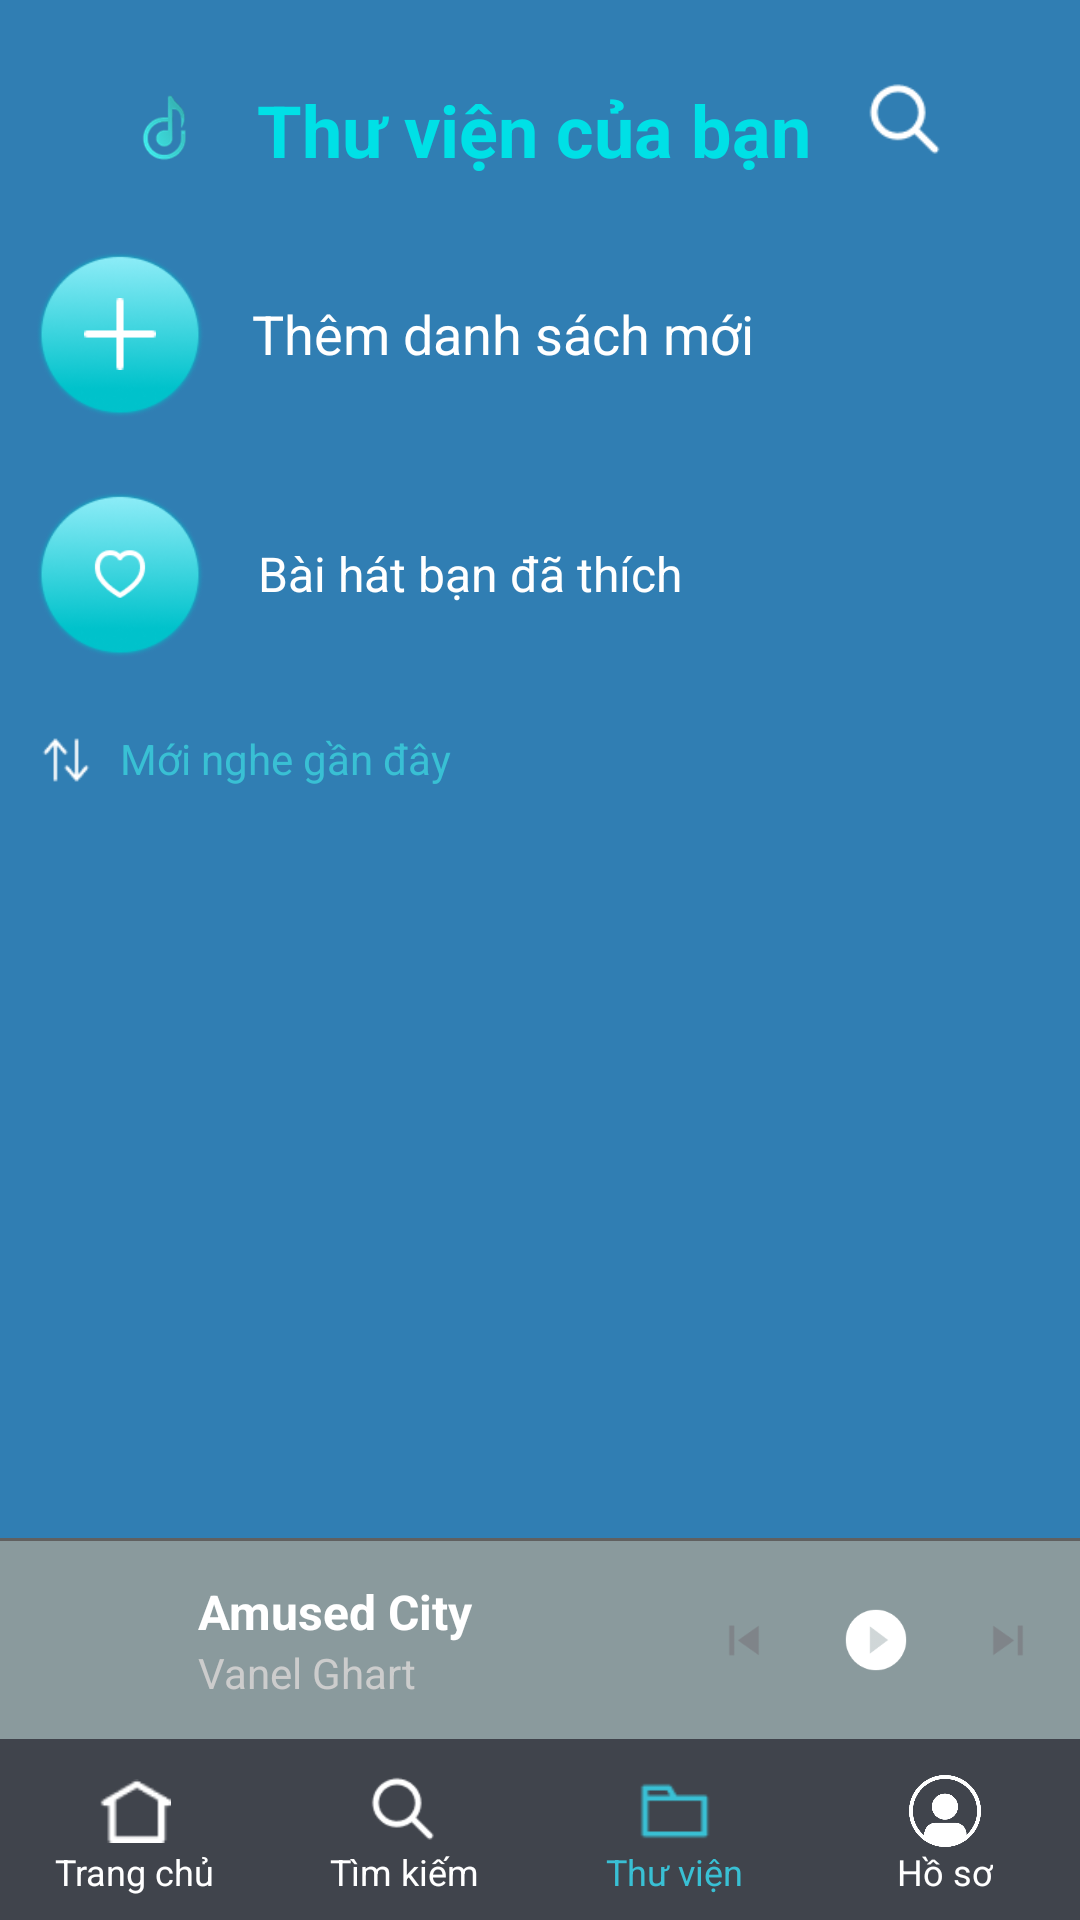

Where to tap for icons on this 1080*1920 app screen, as [x,y]:
add: [120,334]
music: [164,128]
Play/Pause: [876,1640]
updown: [66,760]
